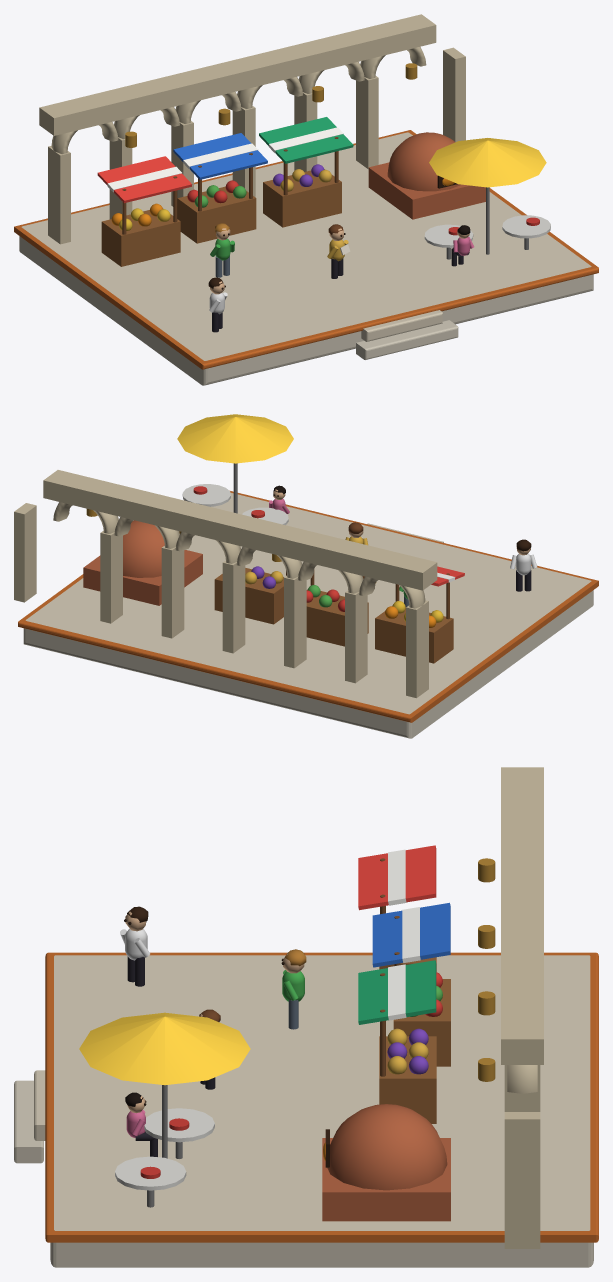
The model's file is souq.glb.
3 renders of one model, top to bottom at view 1: azimuth 30°, elevation 25°; view 2: azimuth 150°, elevation 25°; view 3: azimuth 270°, elevation 25°, orthographic. The views are drawn at different scales.
Parts seen in each view (by area): view 1: part_000, part_007, part_001, part_005, part_003, part_012, part_002, part_004, part_006; view 2: part_000, part_007; view 3: part_000, part_007, part_003, part_001, part_005, part_012, part_004, part_002, part_006.
Boxes of the visible parts, x1,y1,x2,y2 form: part_000: (14, 14, 598, 385); part_007: (429, 138, 546, 187); part_001: (97, 156, 192, 203); part_005: (259, 117, 353, 163); part_003: (173, 133, 267, 179); part_012: (125, 63, 417, 147); part_002: (107, 166, 182, 192); part_004: (183, 143, 257, 169); part_006: (268, 127, 343, 152); part_000: (14, 463, 598, 738); part_007: (177, 414, 293, 463); part_000: (14, 767, 598, 1267); part_007: (79, 1012, 250, 1085); part_003: (372, 902, 450, 967); part_001: (358, 845, 436, 910); part_005: (358, 960, 436, 1024); part_012: (478, 858, 495, 1081); part_004: (402, 907, 420, 962); part_002: (388, 849, 406, 905); part_006: (388, 964, 406, 1020).
Size of the model in its own units: 9.89 by 3.5 by 8.18.
